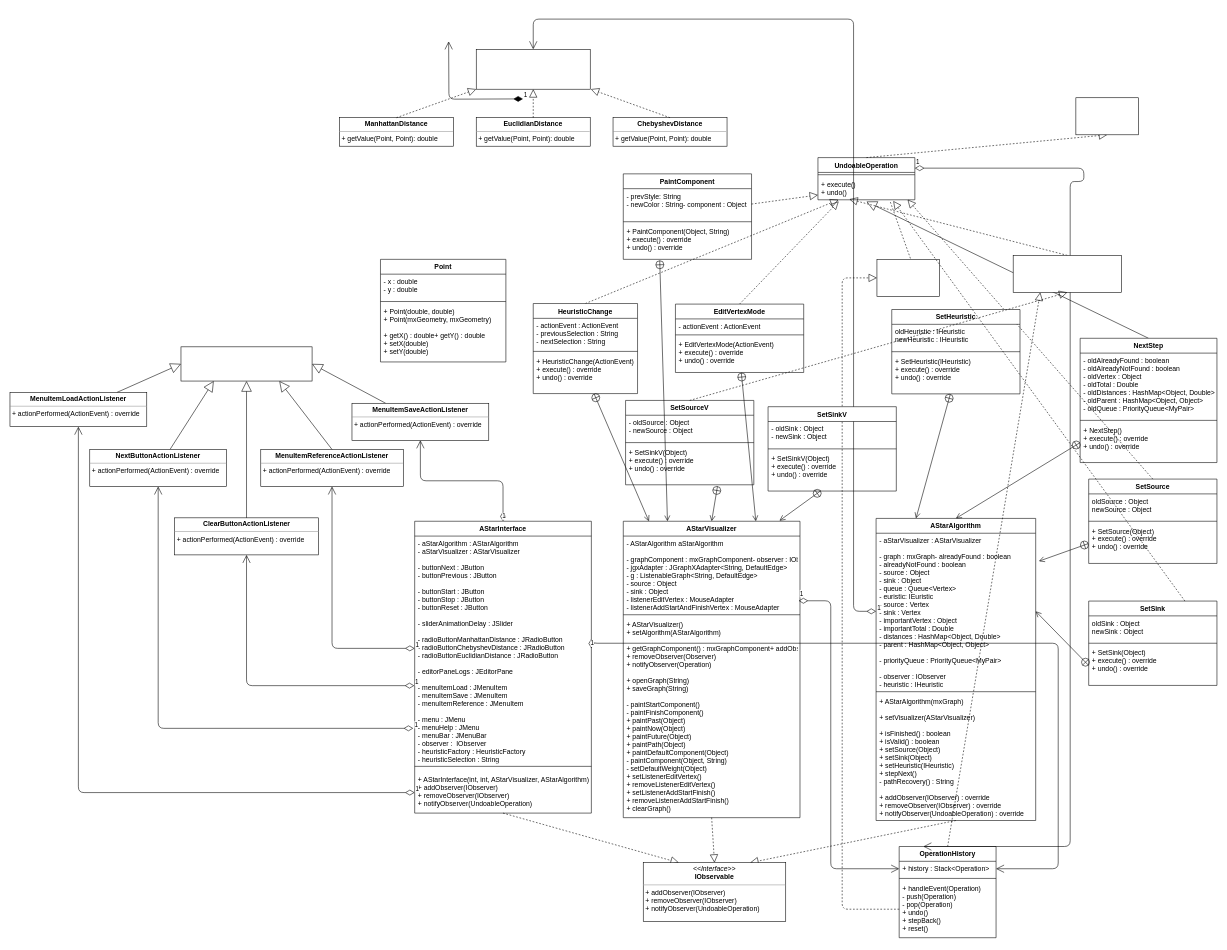
The diagram is 1227 pixels wide and 950 high, and some of its shapes have lost their labels. Here are the shapes that lost their labels. From the top down, the centre of each, then its label:
the point at 533,69: <<Interface>> IHeuristic + getValue(Point, Point): double
the point at 1107,116: <<Interface>> IDoable + do()
the point at 908,277: <<Interface>> IUndoable + undo()
the point at 1067,273: <<Interface>> IObserver + handleEvent(Operation)
the point at 246,363: ActionListener + actionPerformed(ActionEvent)
